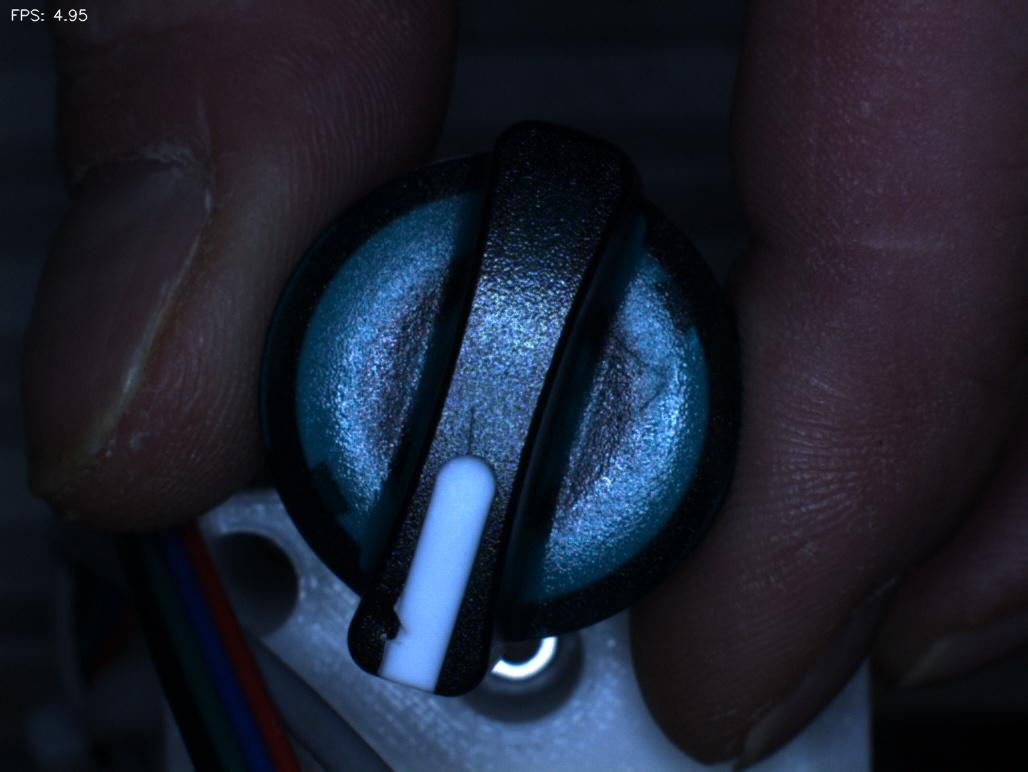Choc: (337, 568, 457, 667)
